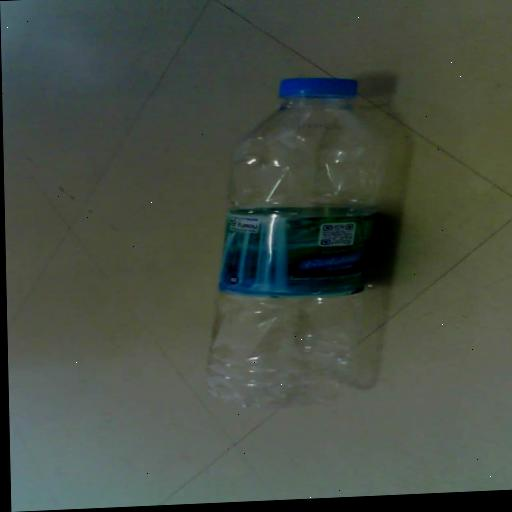bottle: (184, 60, 432, 433)
